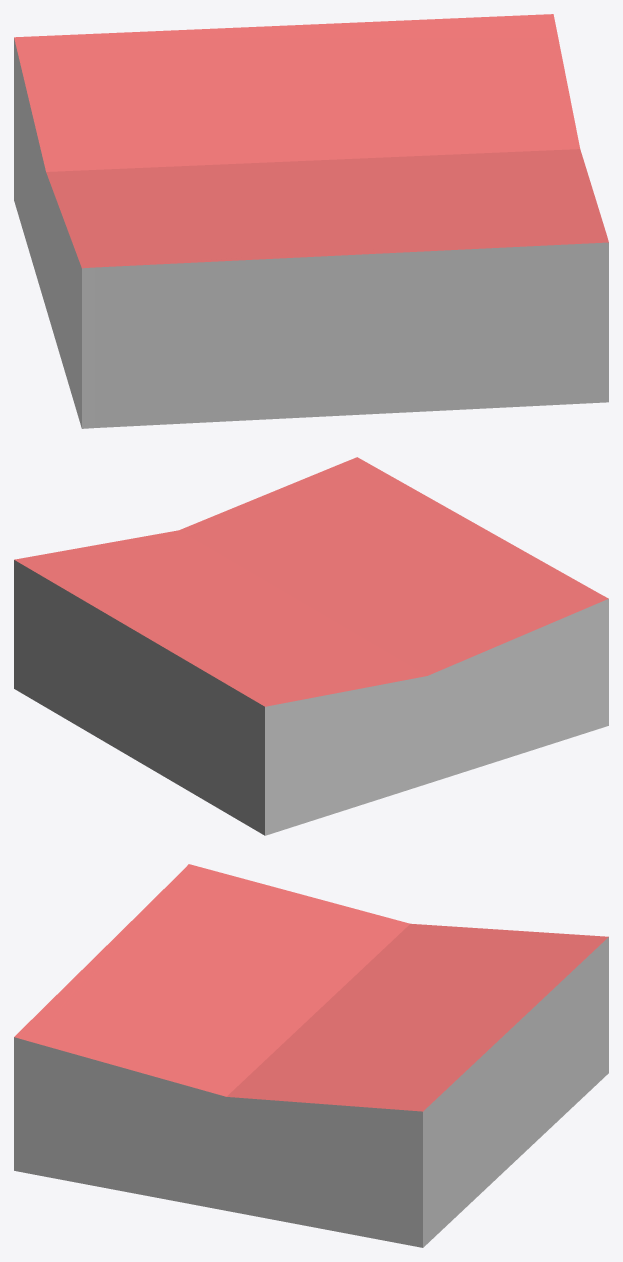
File: DEBY_LOD2_42364611.gltf
3 views of the same model, one above another, from view 1: azimuth 30°, elevation 25°; view 2: azimuth 150°, elevation 25°; view 3: azimuth 270°, elevation 25° (orthographic). The views are drawn at different scales.
Parts seen in each view (by area): view 1: Z_UP; view 2: Z_UP; view 3: Z_UP.
Boxes of the visible parts, <box> form: Z_UP: <box>14,14,608,428</box>; Z_UP: <box>14,457,608,835</box>; Z_UP: <box>14,864,608,1247</box>.
Bounding box in the file's own units: 16.62 × 4.23 × 16.74.
